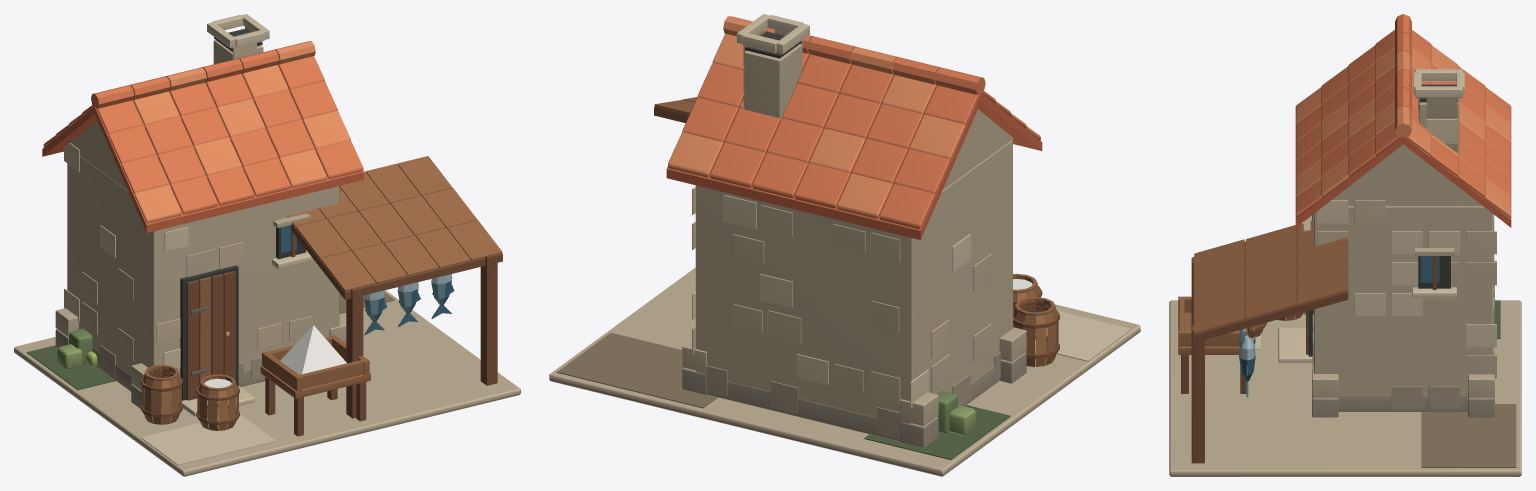
Rendered from saltery.glb.
3 renders of one model, left to right at view 1: azimuth 30°, elevation 25°; view 2: azimuth 150°, elevation 25°; view 3: azimuth 270°, elevation 25°, orthographic. The views are drawn at different scales.
Parts seen in each view (by area): view 1: saltery; view 2: saltery; view 3: saltery.
Boxes of the visible parts, x1,y1,x2,y2 form: saltery: (14,14,520,476); saltery: (549,14,1140,476); saltery: (1169,14,1521,476).
Bounding box in the file's own units: 2.72 × 2.38 × 2.37.
